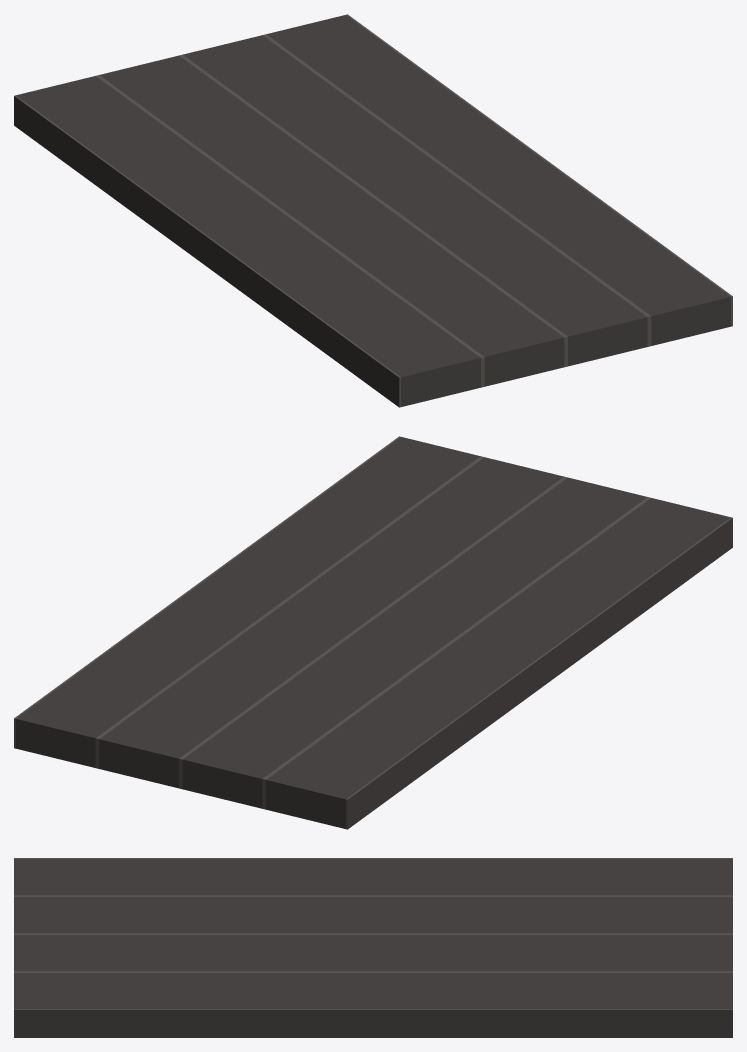
Rendered from Floor_18.fbx.
The picture shows the model from 3 angles, top to bottom: view 1: azimuth 30°, elevation 25°; view 2: azimuth 150°, elevation 25°; view 3: azimuth 270°, elevation 25°; orthographic projection. The views are drawn at different scales.
Visible parts, largest first — view 1: Floor_18; view 2: Floor_18; view 3: Floor_18.
Part boxes in pixels (<box>): Floor_18: <box>14,14,732,407</box>; Floor_18: <box>14,436,732,829</box>; Floor_18: <box>14,858,732,1037</box>.
Size of the model in its own units: 130 by 11.07 by 259.
